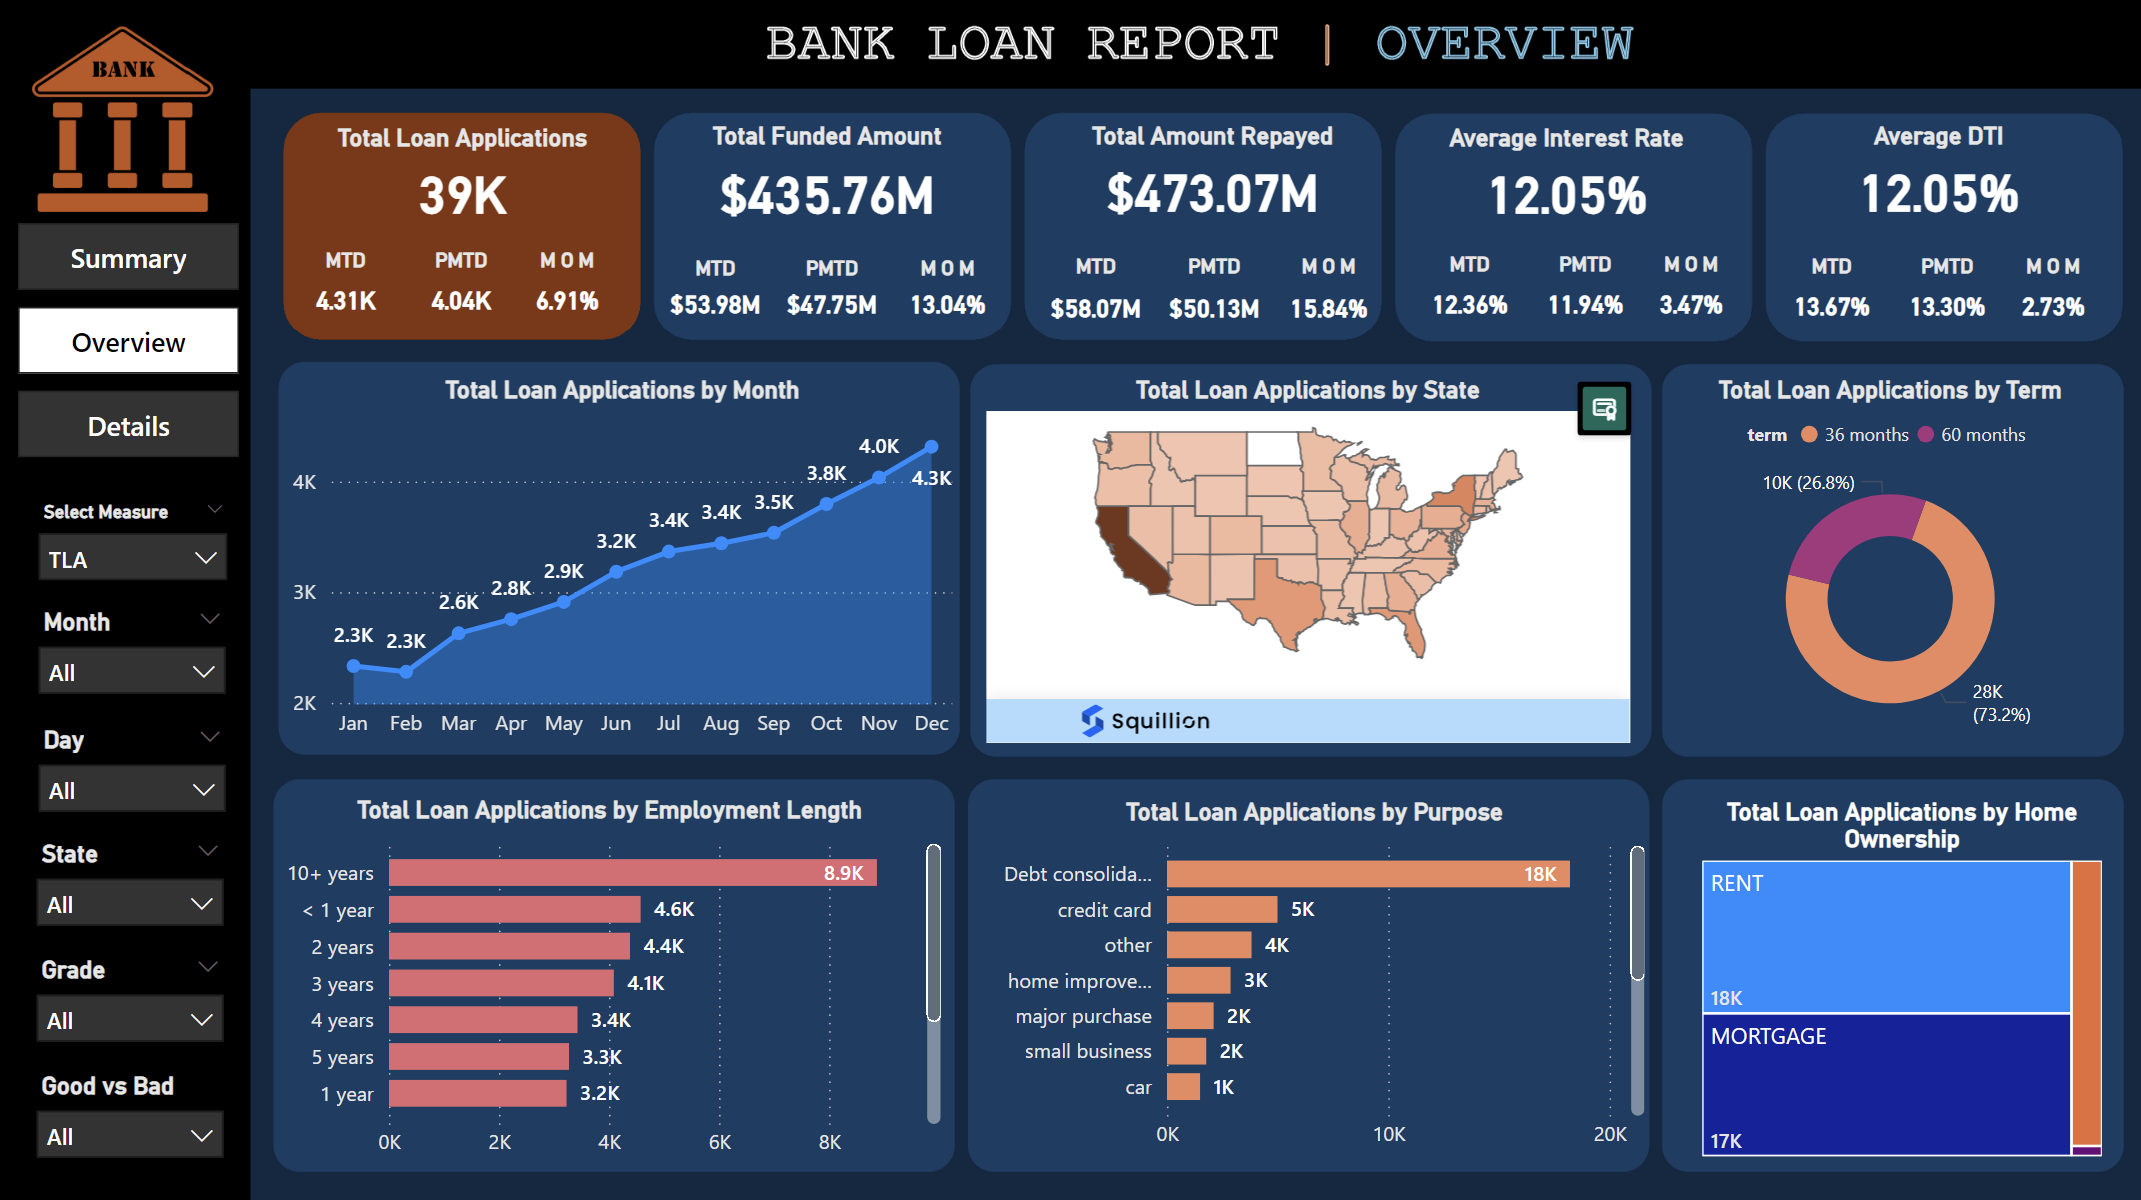

Layout of this report page (visuals, bound fields, positions):
{"tool":"tableau","page":{"name":"OVERVIEW","canvas":[1600,900],"ordinal":1},"visuals":[{"type":"image","param":"/Users/arafathjazeeb/Library/CloudStorage/OneDrive-UniversityofPisa/Data Analyst","box":[8,8,1584,884]},{"type":"worksheet","title":"TRA","mark":"Automatic","box":[770,100,238,81]},{"type":"worksheet","title":"AIR","mark":"Automatic","box":[1037,101,241,77]},{"type":"worksheet","title":"DTI","mark":"Automatic","box":[1307,101,241,72]},{"type":"worksheet","title":"TFA","mark":"Automatic","box":[498,102,241,83]},{"type":"worksheet","title":"TLA","mark":"Automatic","box":[229,103,242,82]},{"type":"text","box":[1328,184,33,30]},{"type":"text","box":[1409,184,39,30]},{"type":"text","box":[1483,184,39,30]},{"type":"text","box":[252,185,33,30]},{"type":"text","box":[333,185,39,30]},{"type":"text","box":[410,185,39,30]},{"type":"text","box":[1065,185,33,30]},{"type":"text","box":[1141,185,39,30]},{"type":"text","box":[1215,185,39,30]},{"type":"text","box":[795,186,33,30]},{"type":"text","box":[869,186,39,30]},{"type":"text","box":[946,186,39,30]},{"type":"text","box":[524,188,33,30]},{"type":"text","box":[601,188,39,30]},{"type":"text","box":[675,188,39,30]},{"type":"worksheet","title":"MTD_AIR","mark":"Automatic","box":[1043,203,77,53]},{"type":"dashboard-object","box":[30,204,164,52]},{"type":"worksheet","title":"PMTD_TLA","mark":"Automatic","box":[310,207,86,43]},{"type":"worksheet","title":"MTD_TFA","mark":"Automatic","box":[501,207,75,46]},{"type":"worksheet","title":"MTD_TRA","mark":"Automatic","box":[768,208,84,43]},{"type":"worksheet","title":"PMTD_AIR","mark":"Automatic","box":[1121,208,84,44]},{"type":"worksheet","title":"PMTD_DTI","mark":"Automatic","box":[1390,208,82,39]},{"type":"worksheet","title":"MOM_TFA","mark":"Automatic","box":[654,209,87,41]},{"type":"worksheet","title":"MTD_DTI","mark":"Automatic","box":[1309,209,73,39]},{"type":"worksheet","title":"PMTD_TFA","mark":"Automatic","box":[581,210,81,39]},{"type":"worksheet","title":"MOM_DTI","mark":"Automatic","box":[1472,210,70,34]},{"type":"worksheet","title":"MTD_TLA","mark":"Automatic","box":[229,211,71,33]},{"type":"worksheet","title":"PMTD_TRA","mark":"Automatic","box":[853,211,76,38]},{"type":"worksheet","title":"MOM_TRA","mark":"Automatic","box":[926,211,79,38]},{"type":"worksheet","title":"MOM_AIR","mark":"Automatic","box":[1197,211,86,36]},{"type":"worksheet","title":"MOM_TLA","mark":"Automatic","box":[392,212,68,32]},{"type":"dashboard-object","box":[29,269,164,52]},{"type":"worksheet","title":"Month","mark":"Area","rows":["Calculation_5259571079074824265","Calculation_5259571079074824265"],"cols":["issue_date"],"box":[229,287,484,268]},{"type":"worksheet","title":"State","mark":"Multipolygon","box":[731,289,483,268]},{"type":"worksheet","title":"Term","mark":"Pie","rows":["Calculation_1125688833947185153","Calculation_1125688833947185153"],"box":[1229,290,333,264]},{"type":"legend","title":"Term","param":"[federated.19laxnm011tjax19or1he1sgg5cj].[none:term:nk]","box":[1293,323,280,21]},{"type":"dashboard-object","box":[29,332,164,52]},{"type":"legend","title":"State","param":"[federated.19laxnm011tjax19or1he1sgg5cj].[usr:Calculation_5259571079074824265:qk","box":[1094,492,121,60]},{"type":"parameter","param":"[Parameters].[Parameter 1]","box":[33,558,160,44]},{"type":"worksheet","title":"Employee Length","mark":"Bar","rows":["emp_length"],"cols":["Calculation_5259571079074824265"],"box":[226,589,482,267]},{"type":"worksheet","title":"Purpose","mark":"Automatic","rows":["purpose"],"cols":["Calculation_5259571079074824265"],"box":[729,589,485,265]},{"type":"worksheet","title":"Home Ownership","mark":"Automatic","box":[1237,590,322,271]},{"type":"filter","title":"AIR","param":"[federated.19laxnm011tjax19or1he1sgg5cj].[none:verification_status:nk]","box":[34,617,160,58]},{"type":"filter","title":"AIR","param":"[federated.19laxnm011tjax19or1he1sgg5cj].[none:address_state:nk]","box":[34,675,160,54]},{"type":"filter","title":"AIR","param":"[federated.19laxnm011tjax19or1he1sgg5cj].[none:grade:nk]","box":[33,736,160,49]},{"type":"filter","title":"AIR","param":"[federated.19laxnm011tjax19or1he1sgg5cj].[none:purpose:nk]","box":[32,795,160,60]}]}

Visuals, with their boxes in screenshot pixels (x1, y1, x2, y2), scaled from the page's 1600x900 canvas onto the 2141x1200 screenshot:
image: [11, 11, 2130, 1189]
"TRA" worksheet: [1030, 133, 1349, 241]
"AIR" worksheet: [1388, 135, 1710, 237]
"DTI" worksheet: [1749, 135, 2071, 231]
"TFA" worksheet: [666, 136, 989, 247]
"TLA" worksheet: [306, 137, 630, 247]
text: [1777, 245, 1821, 285]
text: [1885, 245, 1938, 285]
text: [1984, 245, 2037, 285]
text: [337, 247, 381, 287]
text: [446, 247, 498, 287]
text: [549, 247, 601, 287]
text: [1425, 247, 1469, 287]
text: [1527, 247, 1579, 287]
text: [1626, 247, 1678, 287]
text: [1064, 248, 1108, 288]
text: [1163, 248, 1215, 288]
text: [1266, 248, 1318, 288]
text: [701, 251, 745, 291]
text: [804, 251, 856, 291]
text: [903, 251, 955, 291]
"MTD_AIR" worksheet: [1396, 271, 1499, 341]
dashboard-object: [40, 272, 260, 341]
"PMTD_TLA" worksheet: [415, 276, 530, 333]
"MTD_TFA" worksheet: [670, 276, 771, 337]
"MTD_TRA" worksheet: [1028, 277, 1140, 335]
"PMTD_AIR" worksheet: [1500, 277, 1612, 336]
"PMTD_DTI" worksheet: [1860, 277, 1970, 329]
"MOM_TFA" worksheet: [875, 279, 992, 333]
"MTD_DTI" worksheet: [1752, 279, 1849, 331]
"PMTD_TFA" worksheet: [777, 280, 886, 332]
"MOM_DTI" worksheet: [1970, 280, 2063, 325]
"MTD_TLA" worksheet: [306, 281, 401, 325]
"PMTD_TRA" worksheet: [1141, 281, 1243, 332]
"MOM_TRA" worksheet: [1239, 281, 1345, 332]
"MOM_AIR" worksheet: [1602, 281, 1717, 329]
"MOM_TLA" worksheet: [525, 283, 616, 325]
dashboard-object: [39, 359, 258, 428]
"Month" worksheet (Area marks): [306, 383, 954, 740]
"State" worksheet (Multipolygon marks): [978, 385, 1624, 743]
"Term" worksheet (Pie marks): [1645, 387, 2090, 739]
"Term" legend: [1730, 431, 2105, 459]
dashboard-object: [39, 443, 258, 512]
"State" legend: [1464, 656, 1626, 736]
parameter: [44, 744, 258, 803]
"Employee Length" worksheet (Bar marks): [302, 785, 947, 1141]
"Purpose" worksheet: [975, 785, 1624, 1139]
"Home Ownership" worksheet: [1655, 787, 2086, 1148]
"AIR" filter: [45, 823, 260, 900]
"AIR" filter: [45, 900, 260, 972]
"AIR" filter: [44, 981, 258, 1047]
"AIR" filter: [43, 1060, 257, 1140]
